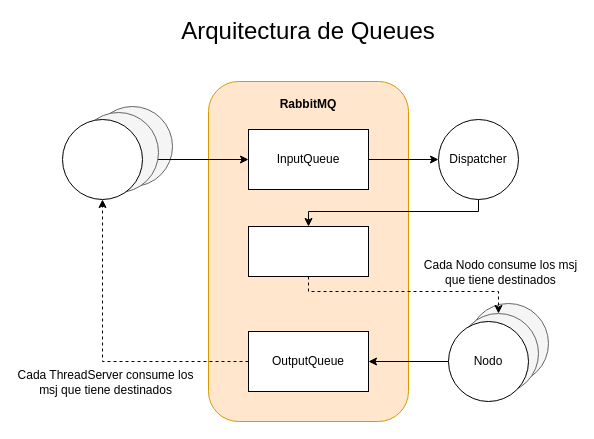
Image size: 594x439. Some labels were removed from this diagram. Each missing label, with the centre of its shape:
ProcessQueue: the point at 308,251
ServerMain: the point at 102,159
